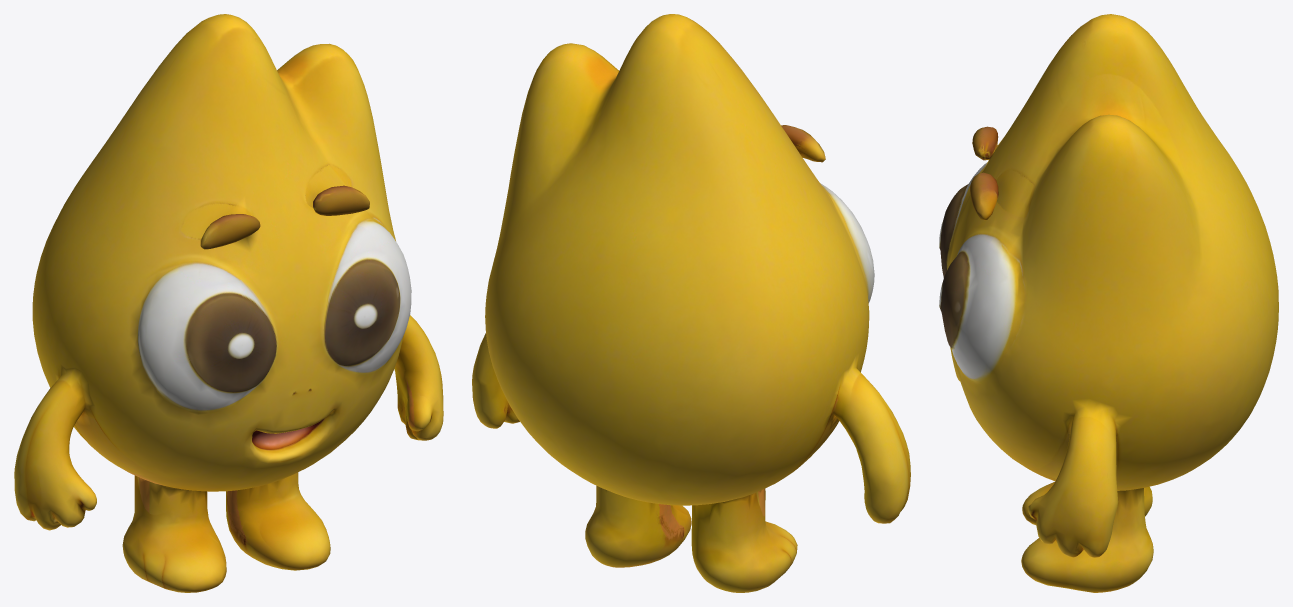
The model's file is foguinho-amarelo.glb.
The picture shows the model from 3 angles, left to right: view 1: azimuth 30°, elevation 25°; view 2: azimuth 150°, elevation 25°; view 3: azimuth 270°, elevation 25°; orthographic projection. The views are drawn at different scales.
Bounding box in the file's own units: 1.61 × 2 × 1.13.
Materials: 1 (1 with a texture image).
